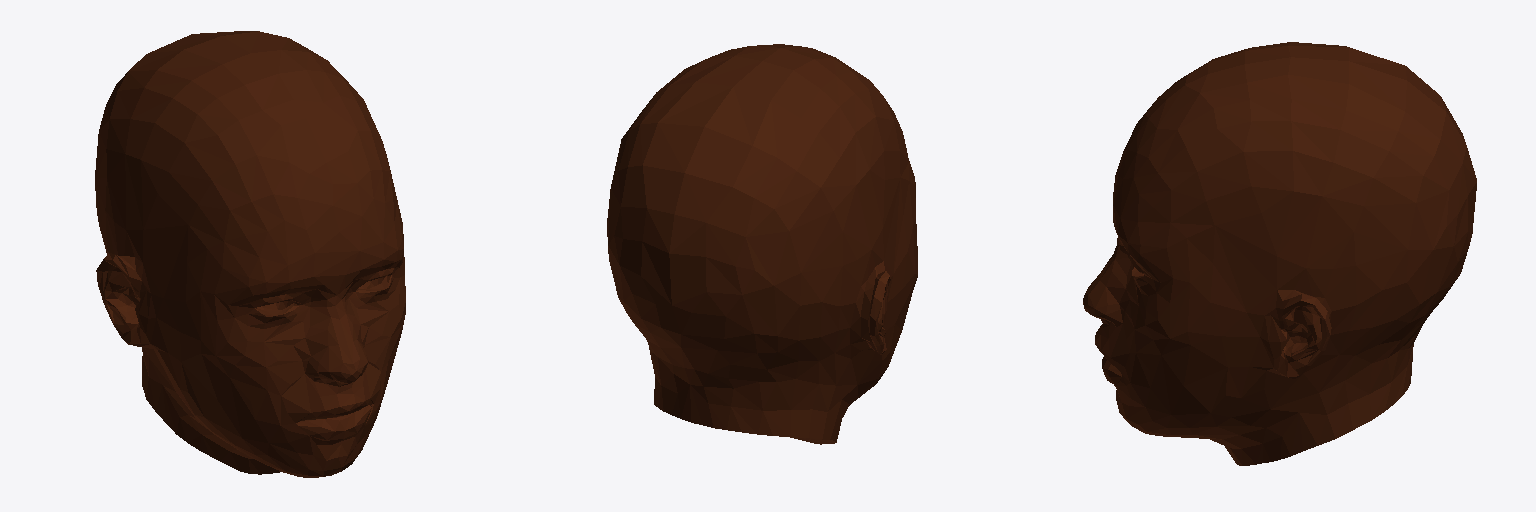
Rendered from humanheadminone.obj.
The picture shows the model from 3 angles: view 1: azimuth 30°, elevation 25°; view 2: azimuth 150°, elevation 25°; view 3: azimuth 270°, elevation 25°; orthographic projection.
Parts seen in each view (by area): view 1: humanforproj2-base; view 2: humanforproj2-base; view 3: humanforproj2-base.
Boxes of the visible parts, x1=… form: humanforproj2-base: x1=95, y1=31, x2=405, y2=477; humanforproj2-base: x1=607, y1=44, x2=917, y2=444; humanforproj2-base: x1=1083, y1=42, x2=1476, y2=465.
Bounding box in the file's own units: 0.1671 × 0.2315 × 0.2084.